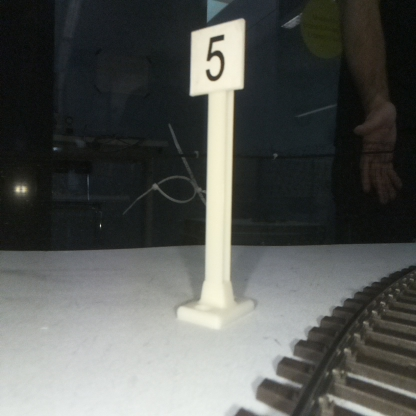white-info-5: (191, 25, 244, 324)
